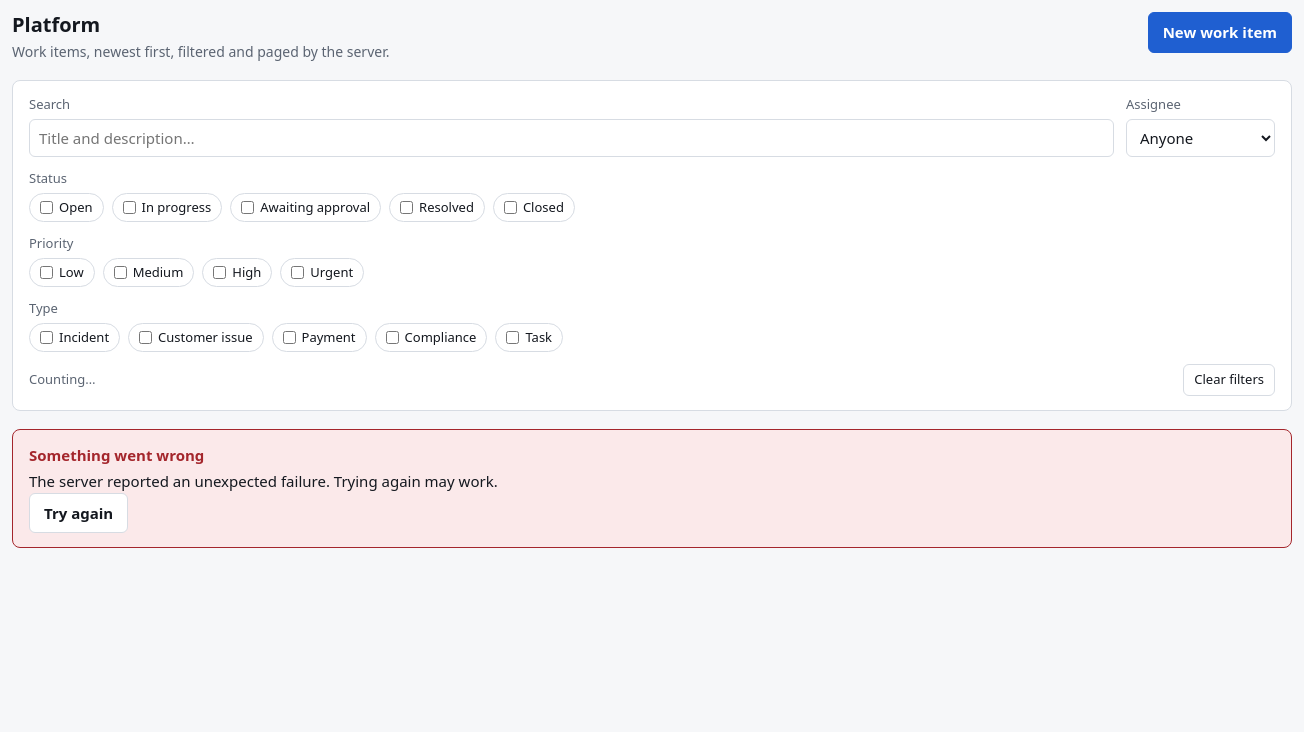
Test: ItemListPage › reports a failure and re-requests when the retry is used
This screenshot has width=1304, height=732.
Expected: the message shows "Something went wrong", [29,444,204,464]
Click the button "Try again" at (79,513), box [29,492,128,533]
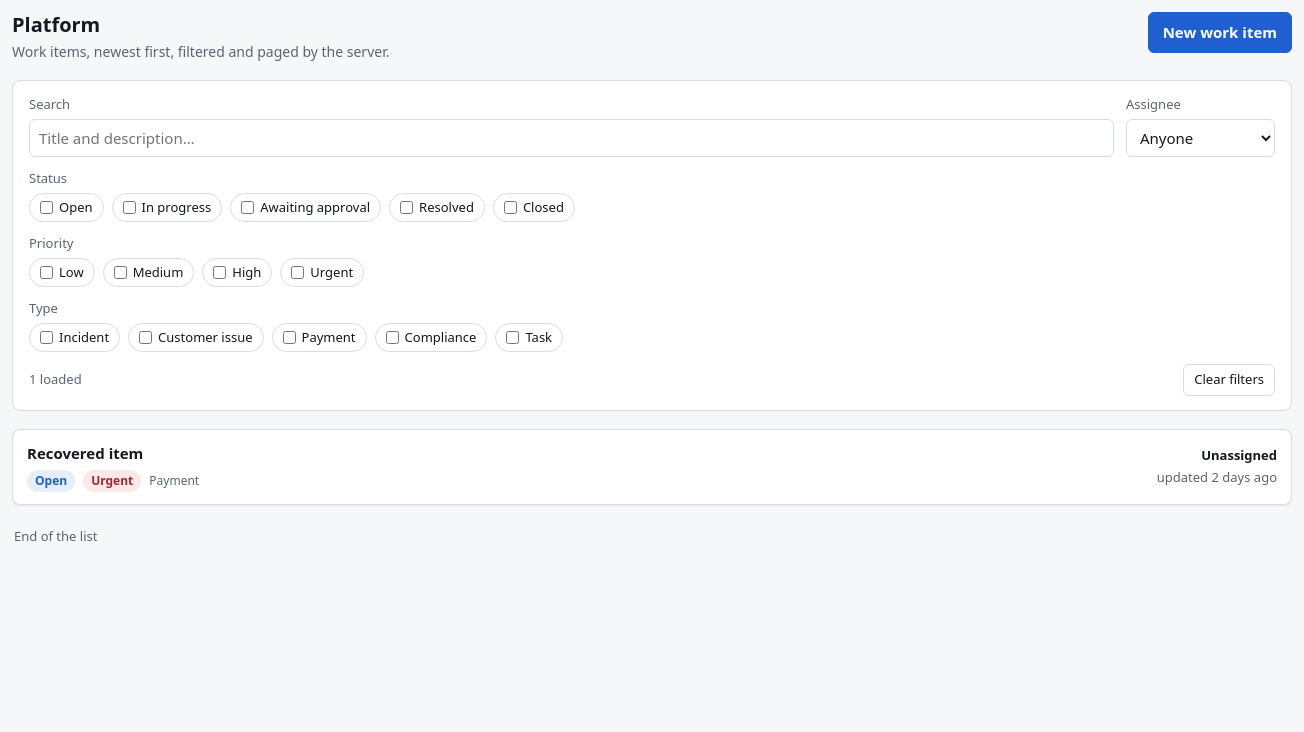
Expected: the text "Recovered item" is shown, [27,442,143,462]
